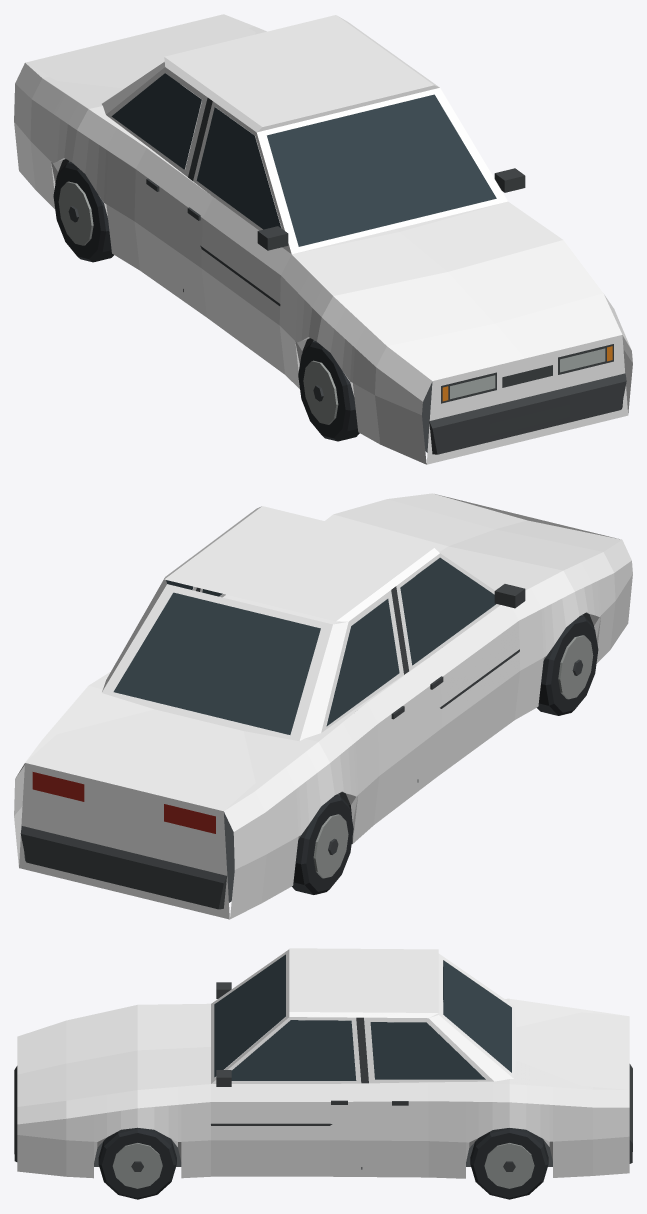
Rendered from sanga_kairo.glb.
3 views of the same model, one above another, from view 1: azimuth 30°, elevation 25°; view 2: azimuth 150°, elevation 25°; view 3: azimuth 270°, elevation 25° (orthographic). The views are drawn at different scales.
Parts seen in each view (by area): view 1: sanga_kairo; view 2: sanga_kairo; view 3: sanga_kairo.
Part boxes in pixels (x1,y1,x2,y2): sanga_kairo: (14,14,632,464); sanga_kairo: (14,493,632,919); sanga_kairo: (14,948,632,1199).
Size of the model in its own units: 1.79 by 1.49 by 4.81.
8 materials, 1 textured.
